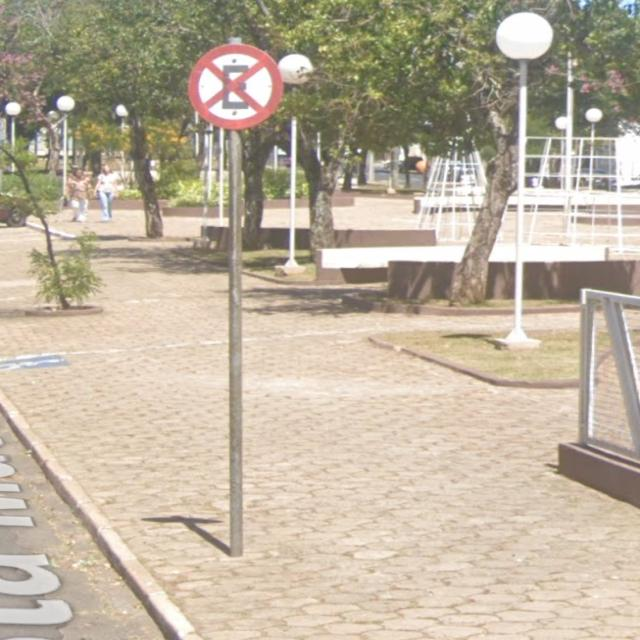no parking: (161, 16, 307, 142)
